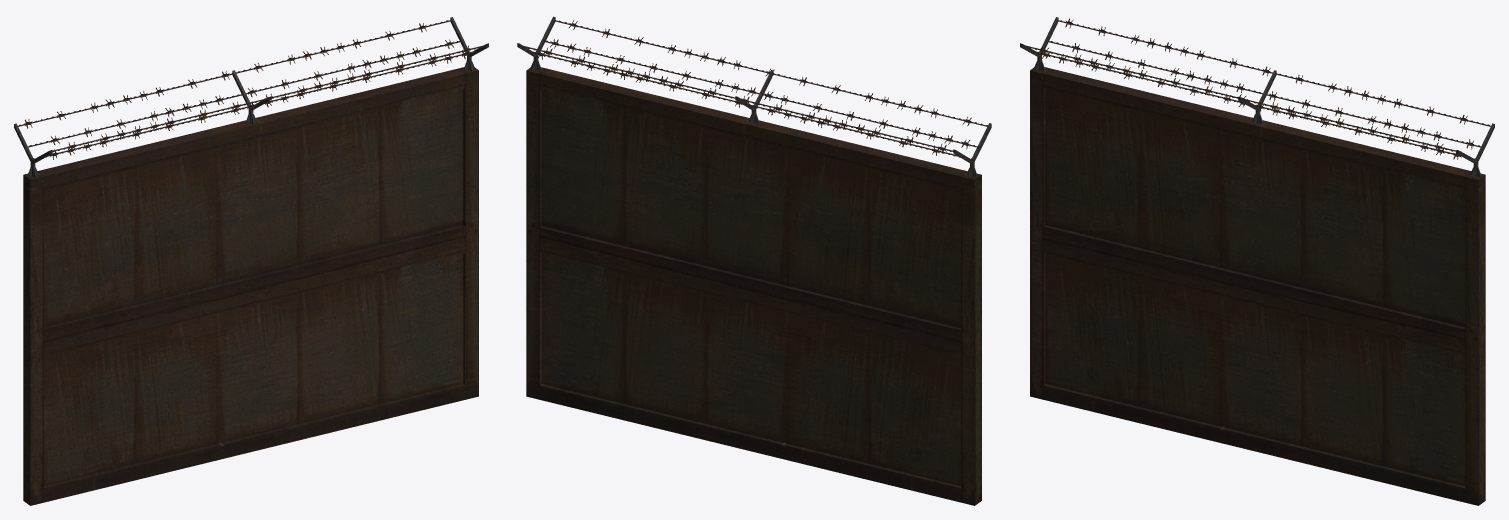
File: metal_fence_hr_2.dae
The picture shows the model from 3 angles, left to right: view 1: azimuth 30°, elevation 25°; view 2: azimuth 150°, elevation 25°; view 3: azimuth 330°, elevation 25°; orthographic projection.
Parts seen in each view (by area): view 1: metal_fence_hr_2; view 2: metal_fence_hr_2; view 3: metal_fence_hr_2.
Boxes of the visible parts, x1,y1,x2,y2 form: metal_fence_hr_2: (14,17,488,505); metal_fence_hr_2: (517,16,991,505); metal_fence_hr_2: (1020,17,1494,505).
Bounding box in the file's own units: 3.6 × 0.5551 × 2.82.
3 materials, 3 textured.
